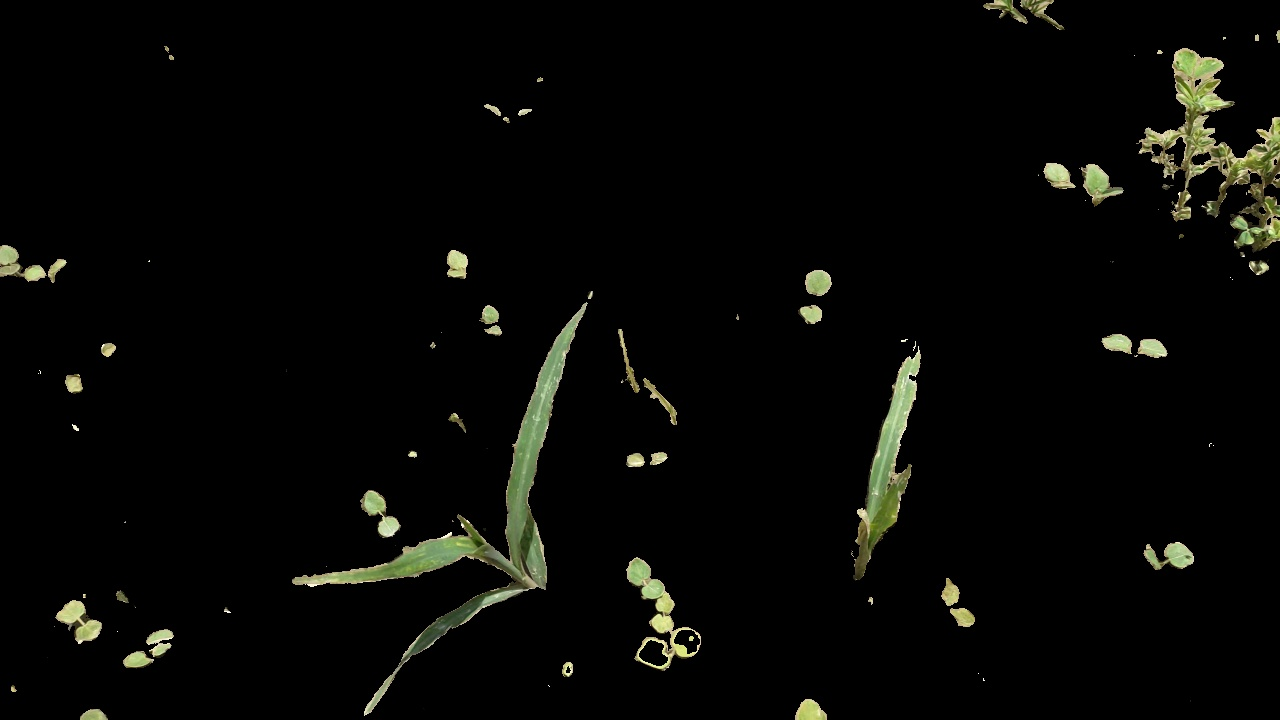crop: (281, 517, 586, 621), (508, 289, 595, 596), (839, 332, 927, 577)
weed: (1133, 31, 1280, 288), (606, 554, 713, 674), (1039, 144, 1123, 215), (122, 617, 187, 674), (1, 246, 76, 288), (1103, 325, 1175, 367), (978, 1, 1074, 32), (50, 600, 110, 648), (1129, 532, 1200, 571), (936, 570, 981, 630), (357, 490, 408, 538), (478, 98, 543, 133), (799, 261, 831, 326), (439, 246, 477, 282), (478, 305, 512, 340), (623, 451, 674, 468)
